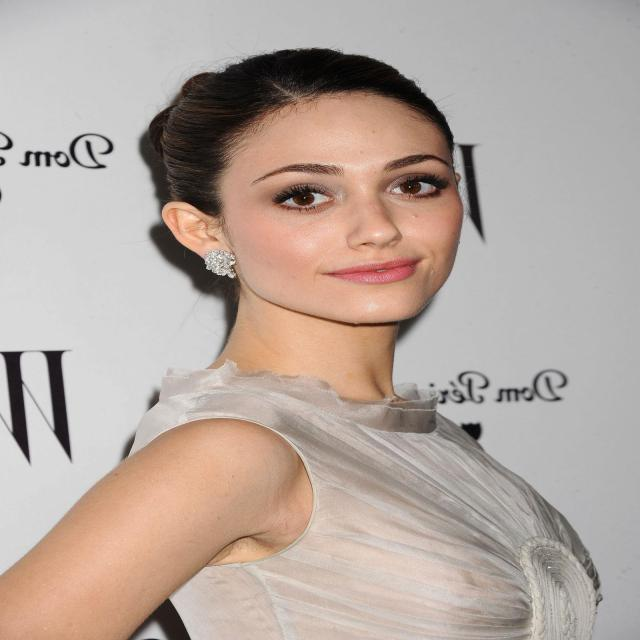no-earmuff: (128, 176, 272, 311)
